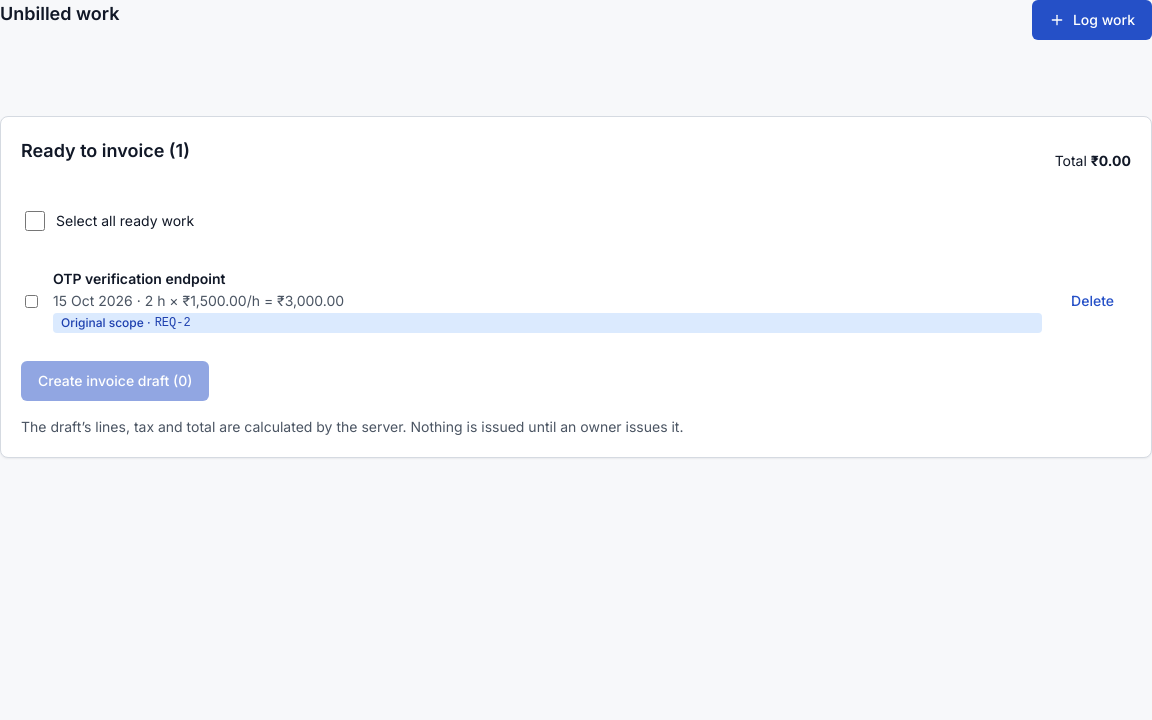
Test: S-10 BillingBoard (FR-041, AC-018.1, AC-018.2) › CT-BIL-05 AC-017.3 a 409 ALREADY_INVOICED delete shows the explanation
Click the button with aria-label "Delete “": (1093, 301) [1054,281,1131,321]
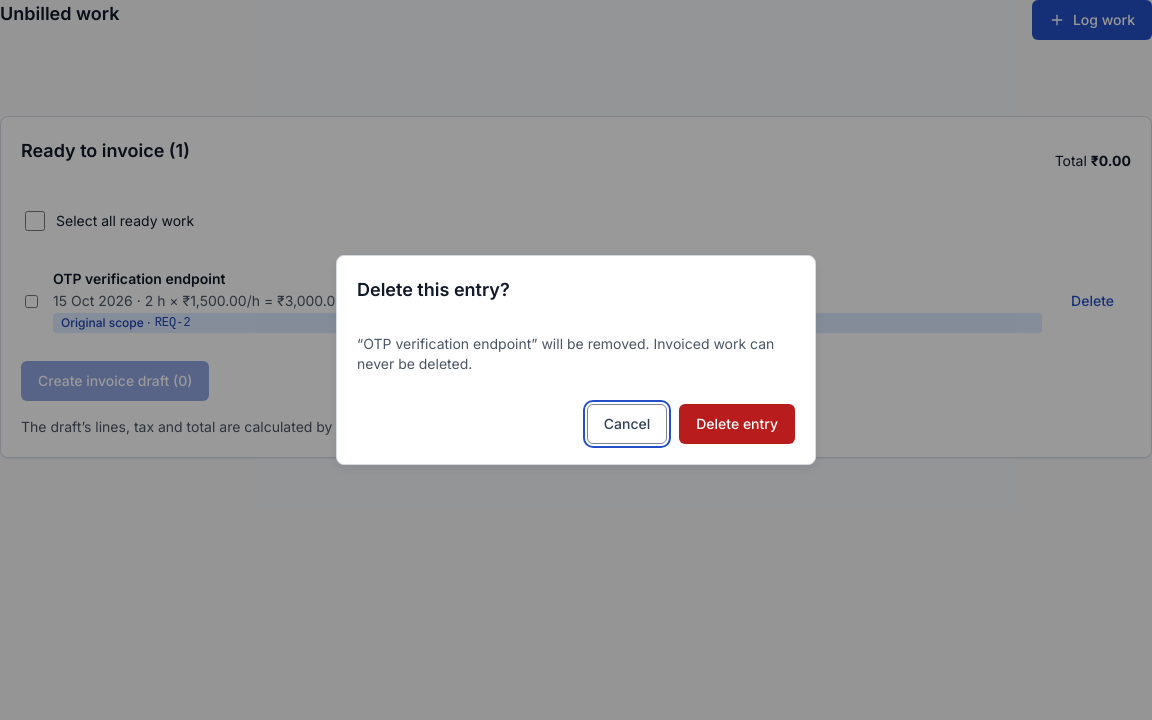
Click the button "Delete entry": (737, 424) [679,404,795,444]
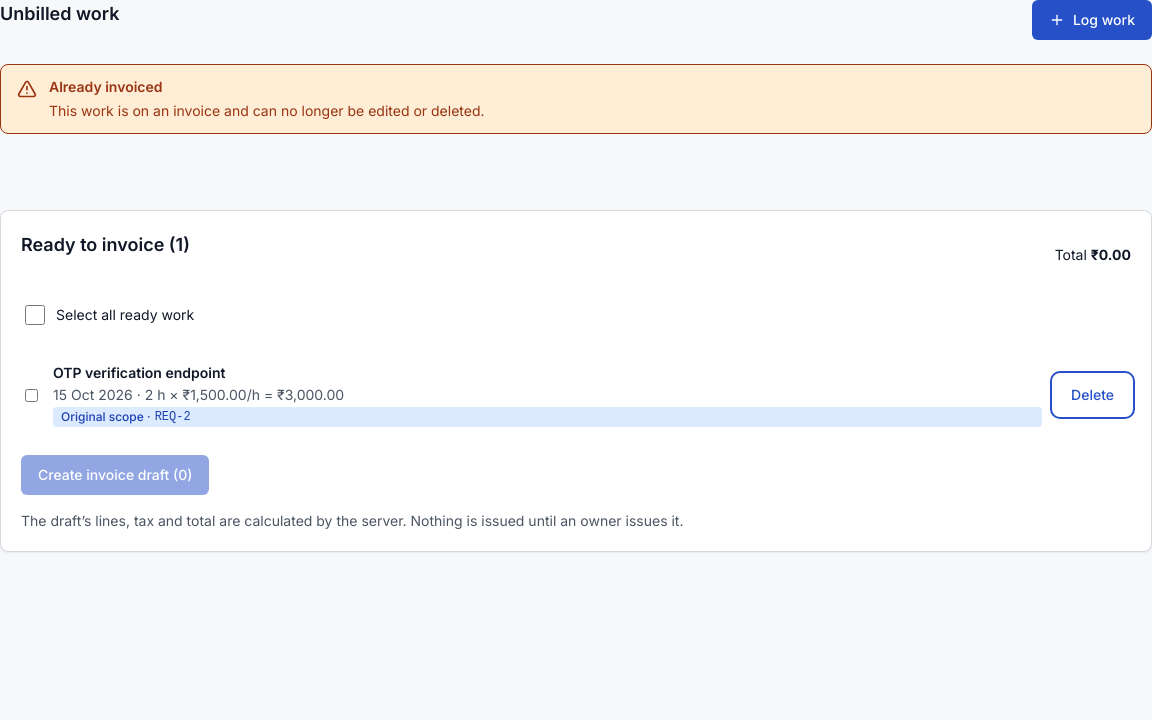
Check: the text "can no longer be edited or deleted" is shown, box [49,102,484,119]
